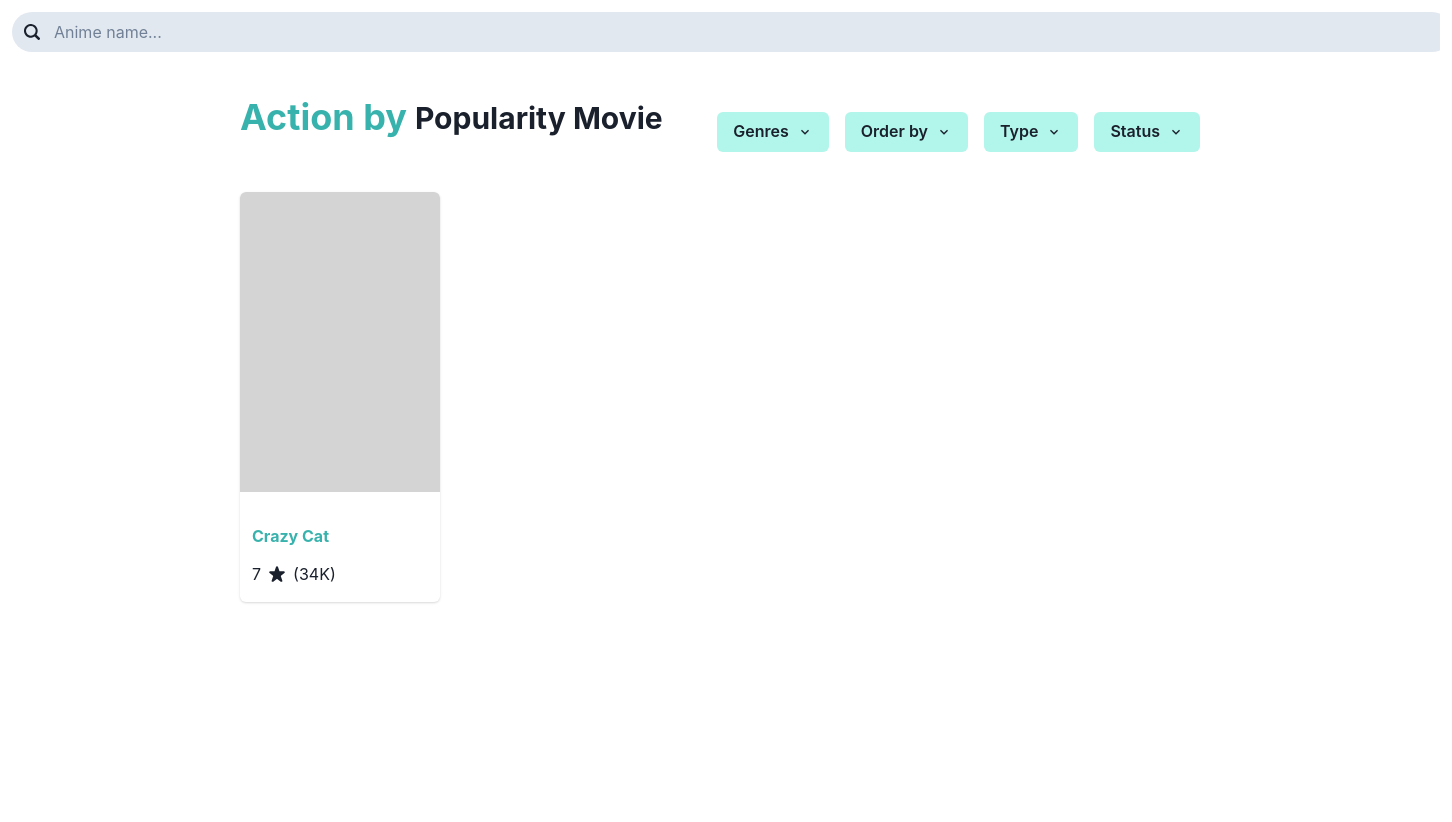
Test: AnimeHeading › should change status to airing if status was changed
The width and height of the screenshot is (1452, 822).
Click the button "Status" at (1147, 132), box left=1094, top=112, right=1200, bottom=152
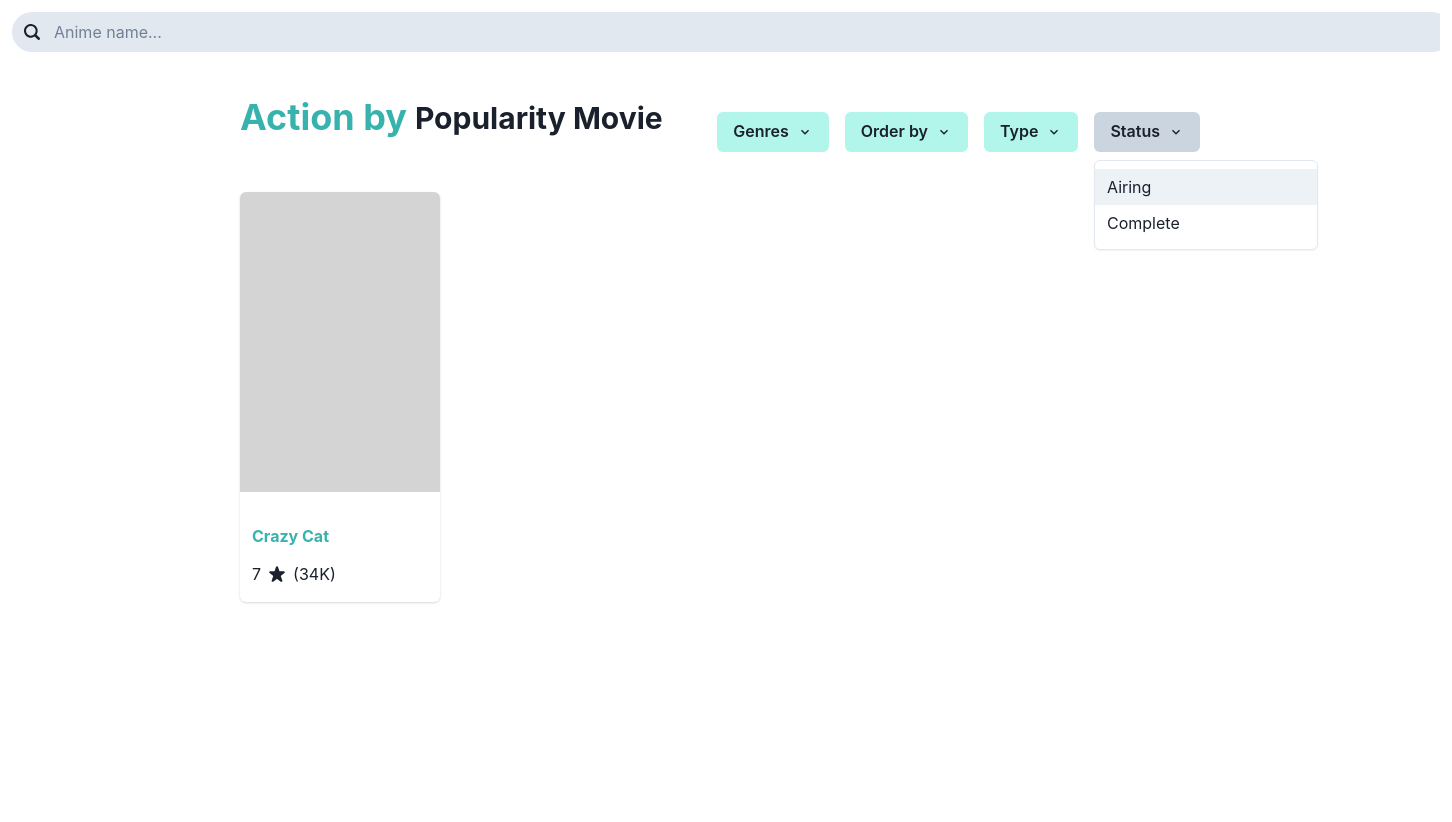
Click the menu item labelled "Airing" at (1206, 187), box left=1095, top=169, right=1317, bottom=205
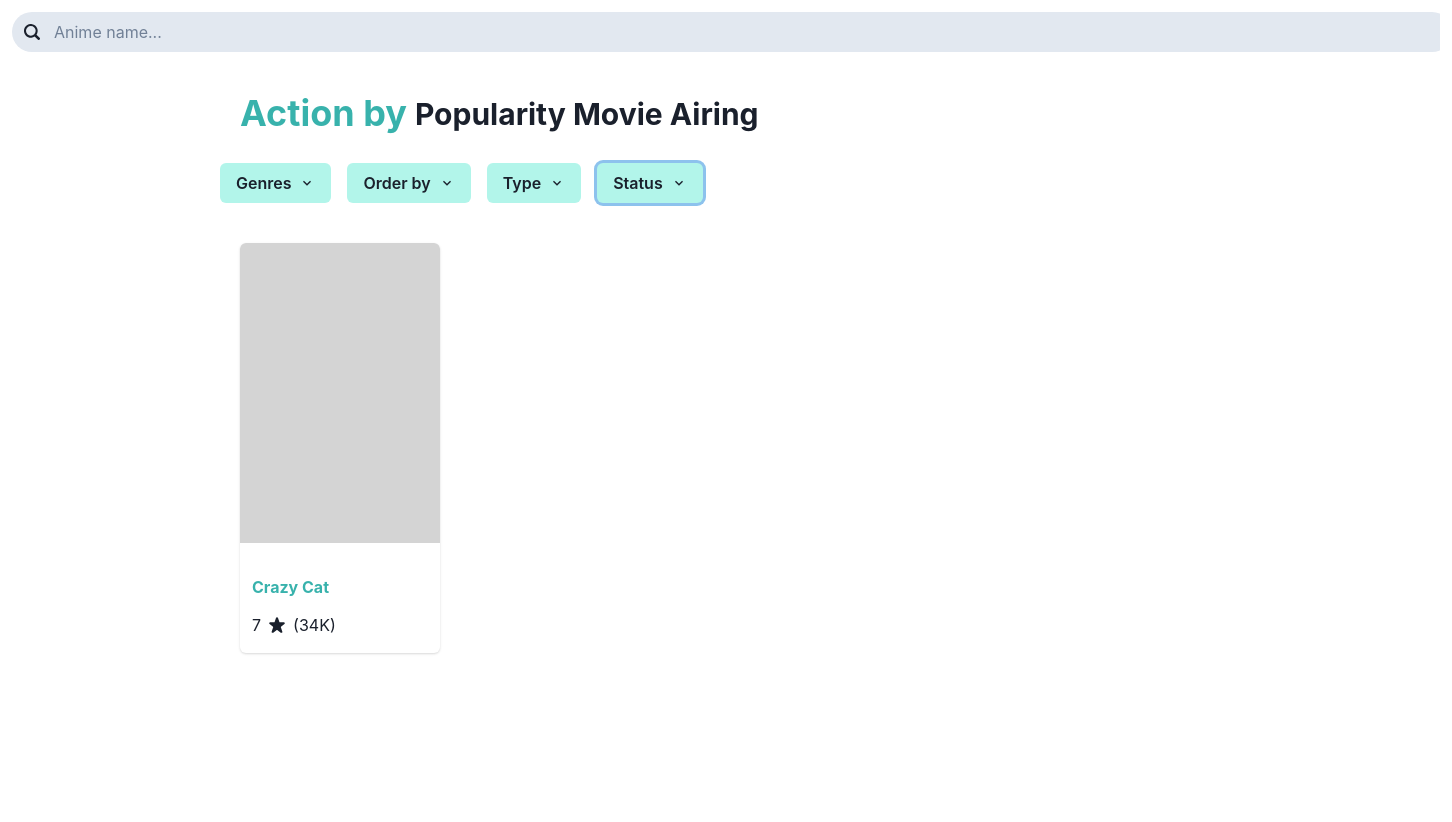
Check: the heading named "secondary-heading" shows "Airing", box left=415, top=96, right=758, bottom=132
